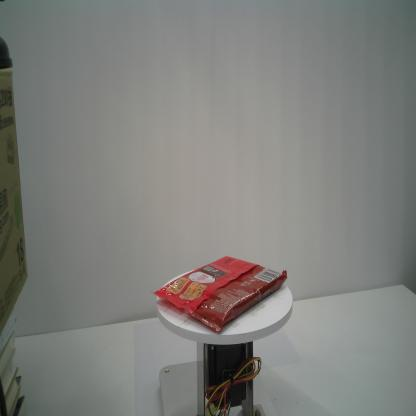Dessert: (151, 256, 287, 335)
